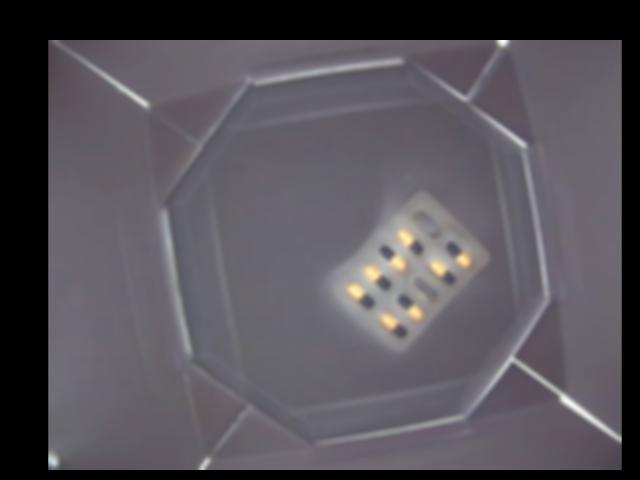Medicine: (329, 186, 492, 348)
